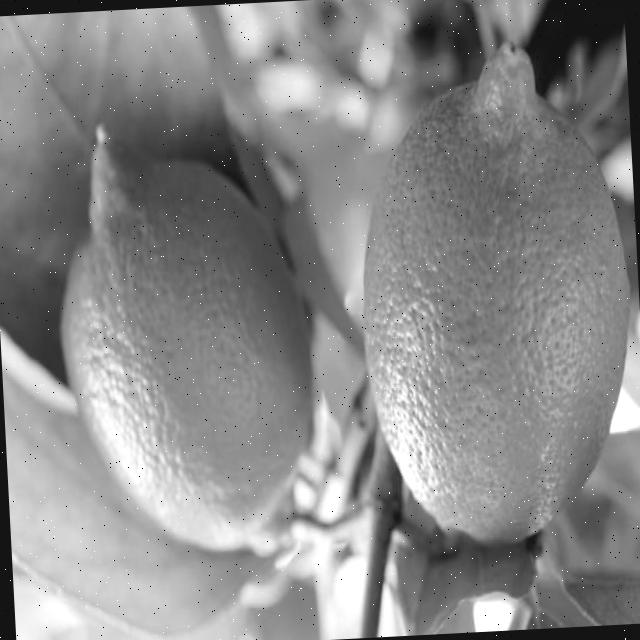Unripe: (347, 34, 640, 555), (52, 138, 321, 558)
